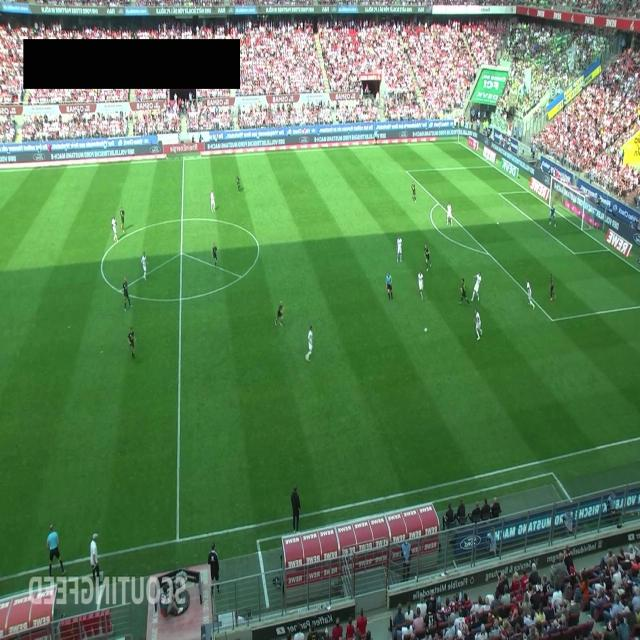ball: (424, 326, 428, 334)
goalkeeper: (549, 205, 557, 228)
player: (459, 276, 471, 306), (122, 276, 132, 312), (471, 271, 482, 302), (472, 309, 482, 341), (305, 325, 313, 363), (526, 280, 536, 310), (127, 327, 136, 359), (274, 300, 284, 328), (140, 251, 148, 281), (424, 243, 432, 271), (111, 216, 119, 242), (418, 270, 424, 300), (549, 276, 556, 301), (396, 235, 402, 263), (119, 206, 125, 232), (446, 202, 452, 226), (212, 242, 218, 266), (210, 190, 216, 212), (235, 174, 242, 192), (412, 182, 416, 202)
referee: (46, 523, 66, 577), (386, 270, 392, 300), (373, 127, 379, 146)
